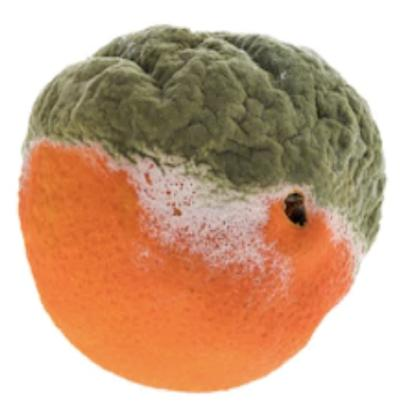rotten: (16, 21, 391, 396)
